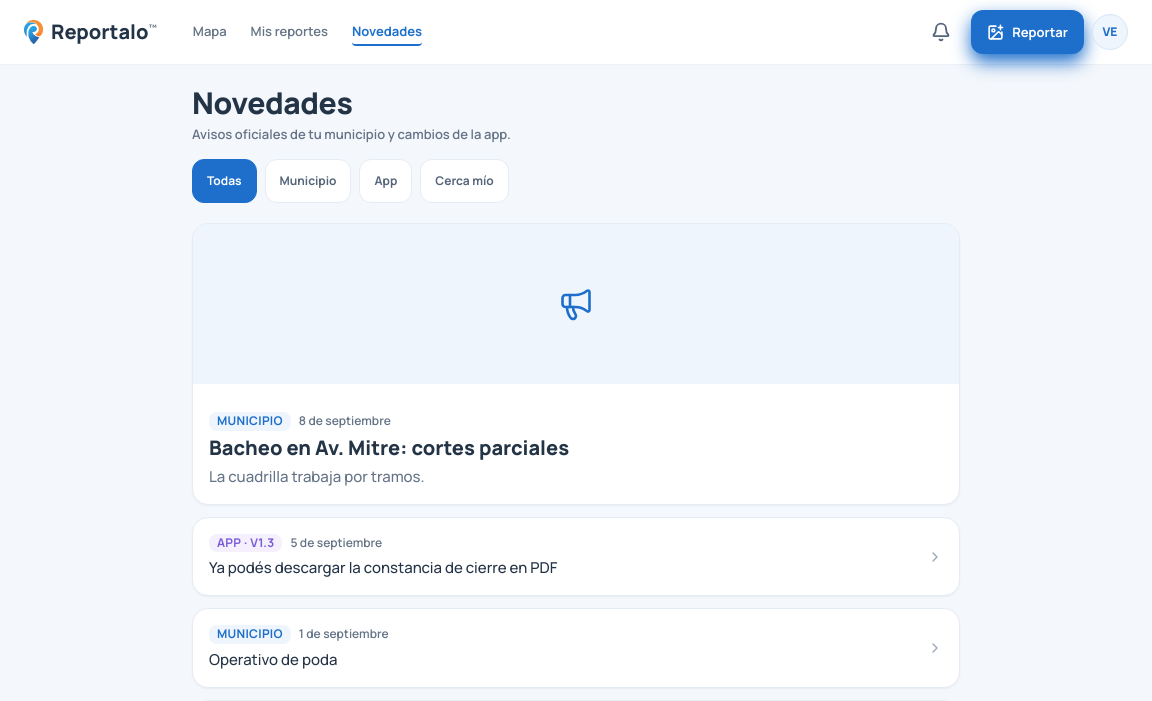
Test: REP-3791 Bloque 8 · Novedades (UJ v3.3 · M24 / M25) › UT-B8-02: con contenido, muestra una destacada arriba y el resto compactas, y filtra por origen
Check: the button with test id "news-card-featured" is shown, box [192,223,960,505]
Click the button "App" at (386, 181), box [360,159,412,203]
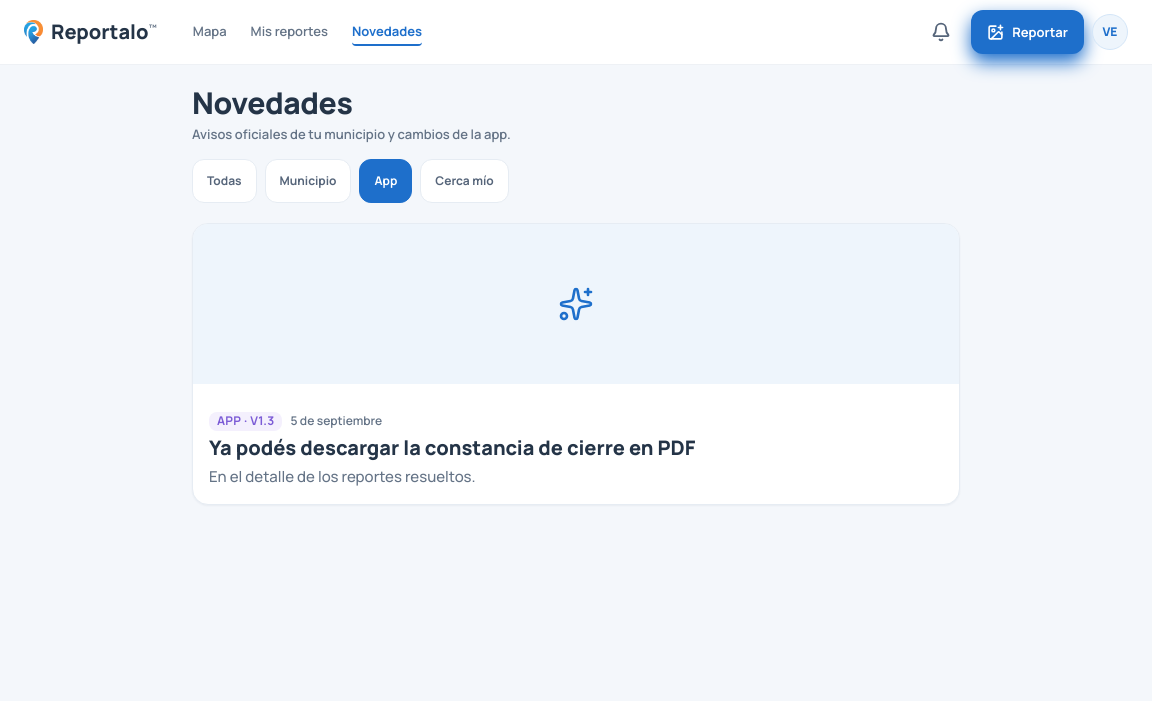
Check: no buttons with test id "news-card" are shown
Check: the text "Ya podés descargar la constancia de cierre en PDF" is shown, box [209,434,695,461]
